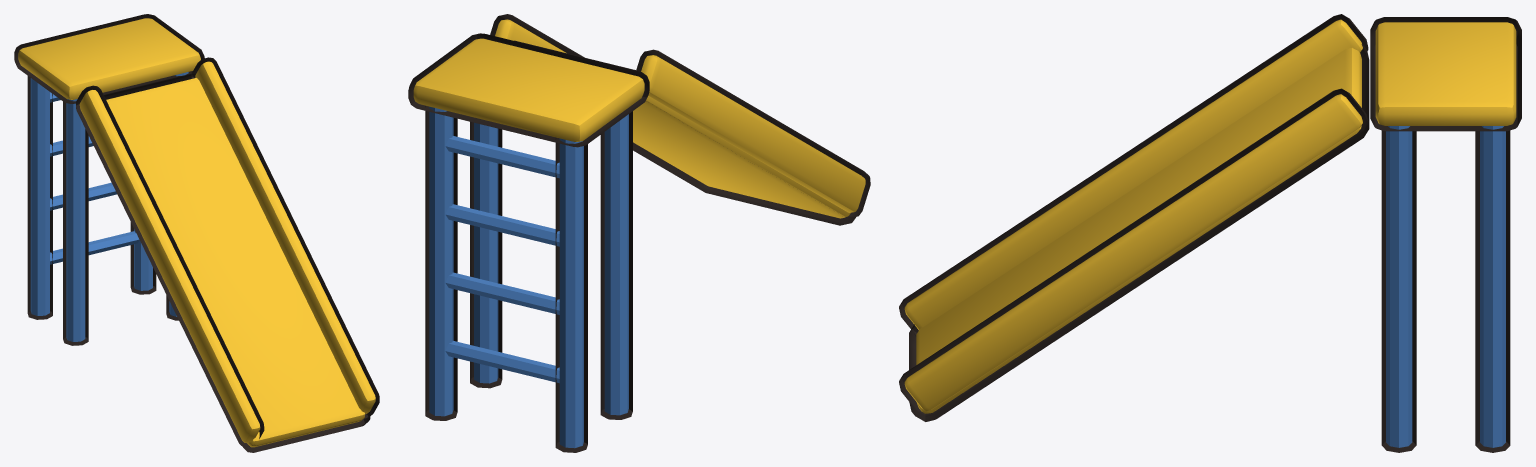
File: Slide.fbx
3 views of the same model, side by side, from view 1: azimuth 30°, elevation 25°; view 2: azimuth 150°, elevation 25°; view 3: azimuth 270°, elevation 25° (orthographic). The views are drawn at different scales.
Visible parts, largest first — view 1: PR_Slide_Yellow, PR_Slide_Outline, PR_Slide_AwningBlue; view 2: PR_Slide_AwningBlue, PR_Slide_Yellow, PR_Slide_Outline; view 3: PR_Slide_Yellow, PR_Slide_Outline, PR_Slide_AwningBlue.
Boxes of the visible parts, box(x1,y1,x2,y2) form: PR_Slide_Yellow: box(18, 18, 375, 447); PR_Slide_Outline: box(14, 14, 379, 452); PR_Slide_AwningBlue: box(30, 72, 188, 341); PR_Slide_AwningBlue: box(429, 106, 628, 448); PR_Slide_Yellow: box(413, 19, 865, 218); PR_Slide_Outline: box(408, 14, 870, 452); PR_Slide_Yellow: box(904, 19, 1516, 413); PR_Slide_Outline: box(899, 14, 1521, 452); PR_Slide_AwningBlue: box(1386, 126, 1505, 447).
Bounding box in the file's own units: 1.16 × 2.11 × 3.32.
